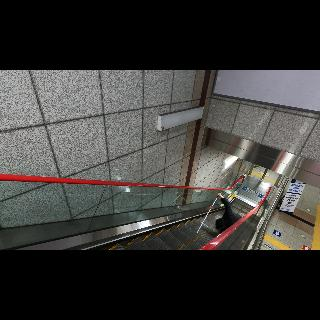anomaly: (213, 190, 247, 238)
